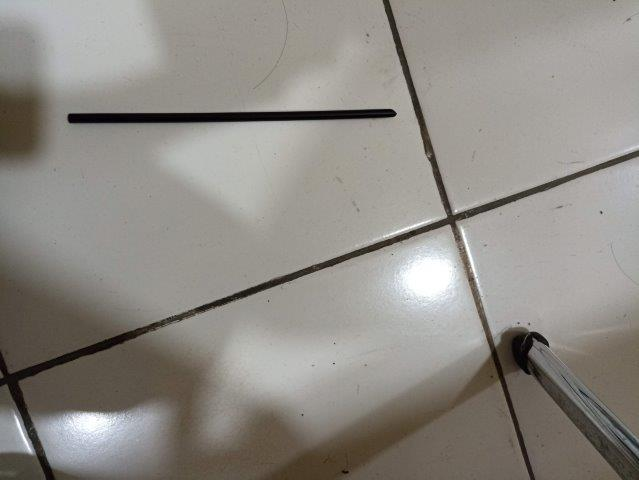sedotan: (68, 109, 397, 124)
